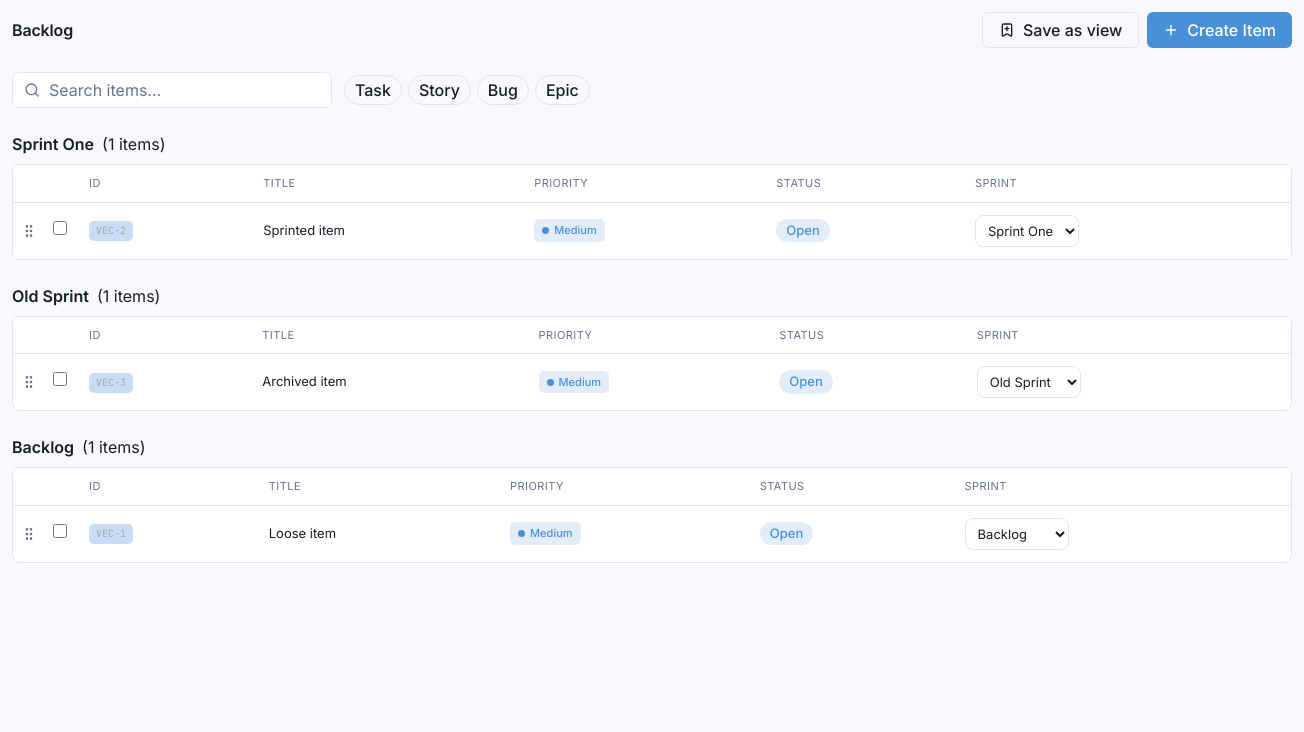
Test: BacklogPage sprint assignment › bulk-moves every selected item and then clears the selection
Click the checkbox named "Select VEC-1" at point(60, 531), box [53,524,67,538]
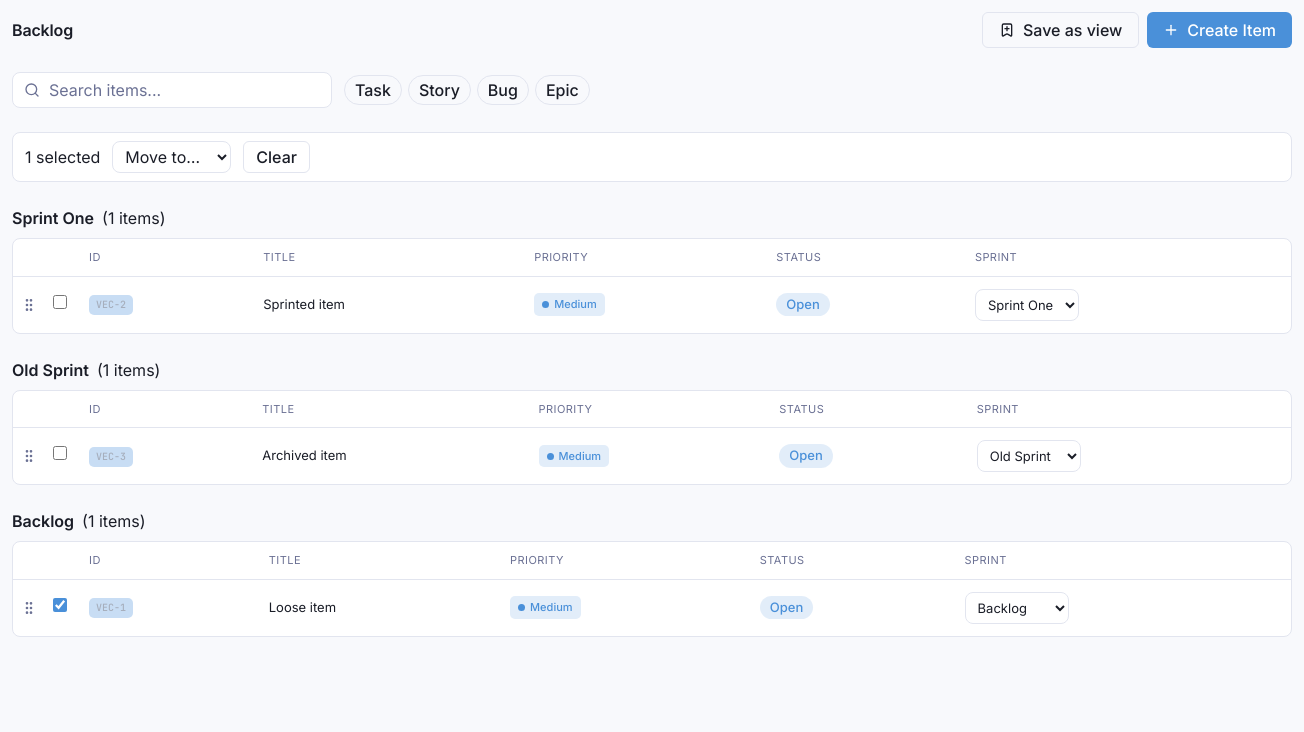
Click the checkbox named "Select VEC-2" at point(60, 302), box [53,295,67,309]
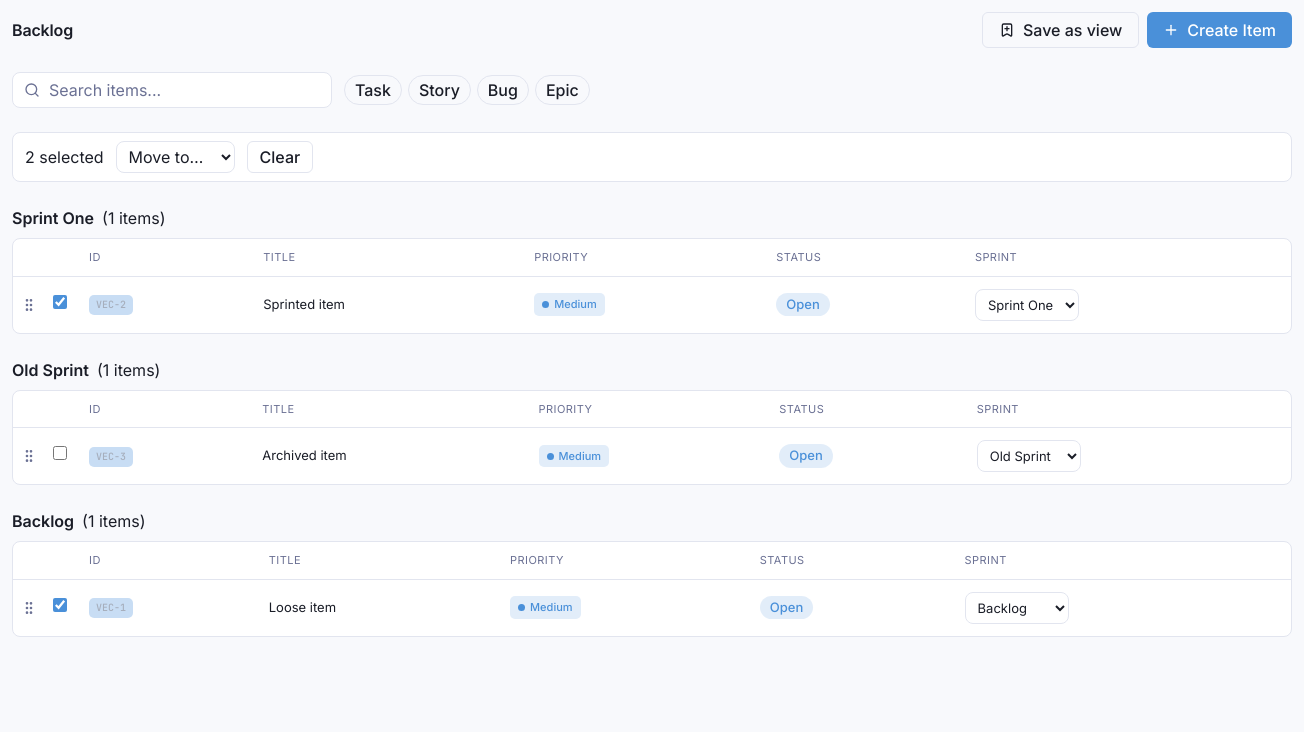
Expected: the text "2 selected" is shown, [25,145,104,169]
Select "Sprint One" in the dropdown named "Move selected to sprint" at point(175, 157), box [116,141,235,173]
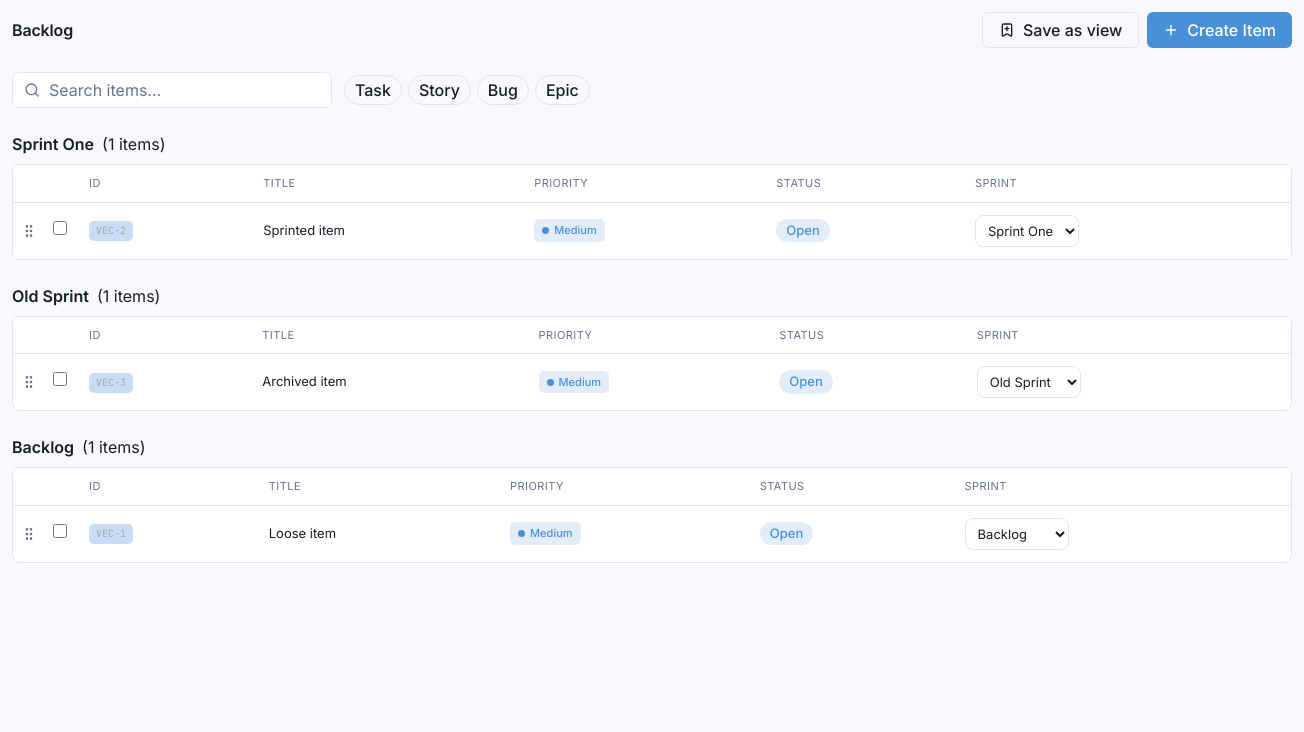
Expected: the element with test id "backlog-bulk-bar" is gone
